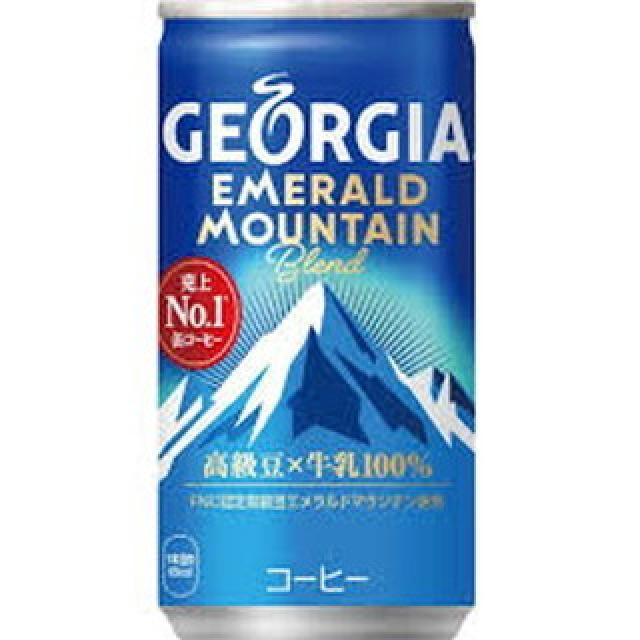recyclable: (158, 0, 480, 640)
